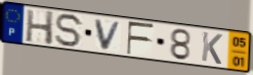8: (169, 28, 193, 61)
F: (126, 20, 156, 56)
H: (24, 9, 56, 47)
K: (200, 31, 224, 67)
S: (54, 13, 86, 49)
V: (93, 18, 124, 52)
